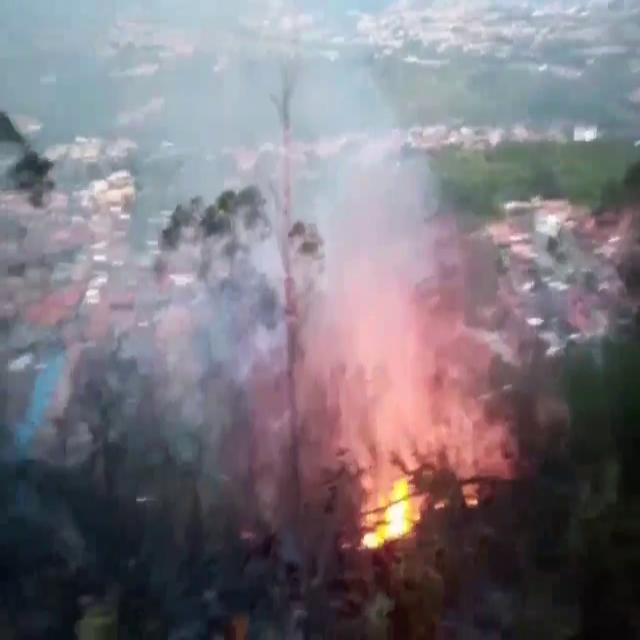Fire: (358, 463, 428, 556)
Smoke: (163, 1, 492, 482)
